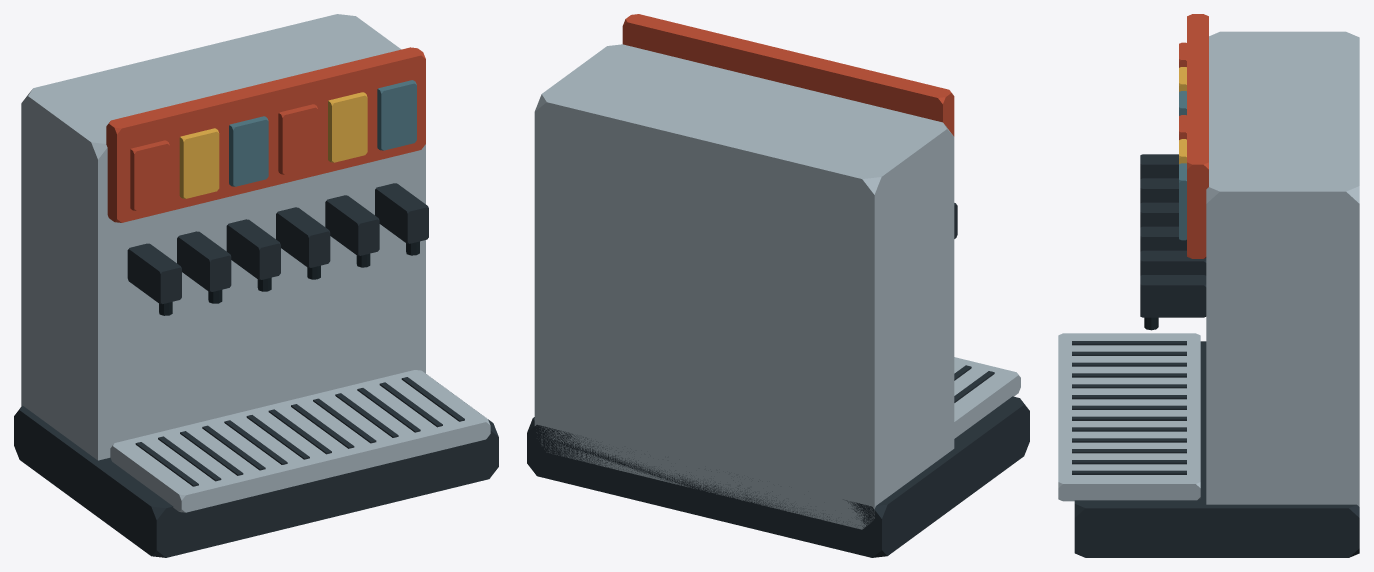
File: DrinkStation_MultiTap.glb
3 views of the same model, side by side, from view 1: azimuth 30°, elevation 25°; view 2: azimuth 150°, elevation 25°; view 3: azimuth 270°, elevation 25° (orthographic). The views are drawn at different scales.
Visible parts, largest first — view 1: DrinkStation_MultiTap; view 2: DrinkStation_MultiTap; view 3: DrinkStation_MultiTap.
Part boxes in pixels (bbox=[...]): DrinkStation_MultiTap: bbox=[14, 14, 498, 557]; DrinkStation_MultiTap: bbox=[527, 14, 1029, 557]; DrinkStation_MultiTap: bbox=[1058, 14, 1359, 557].
Bounding box in the file's own units: 0.72 × 0.775 × 0.55.
